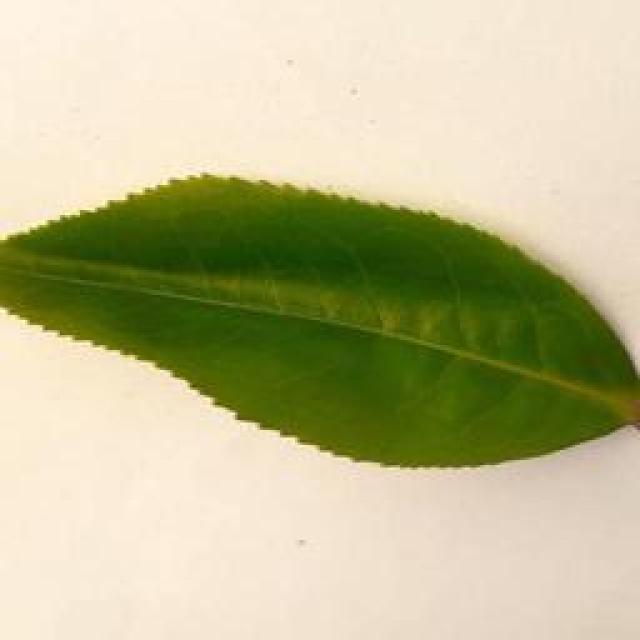Healthy: (0, 170, 640, 484)
